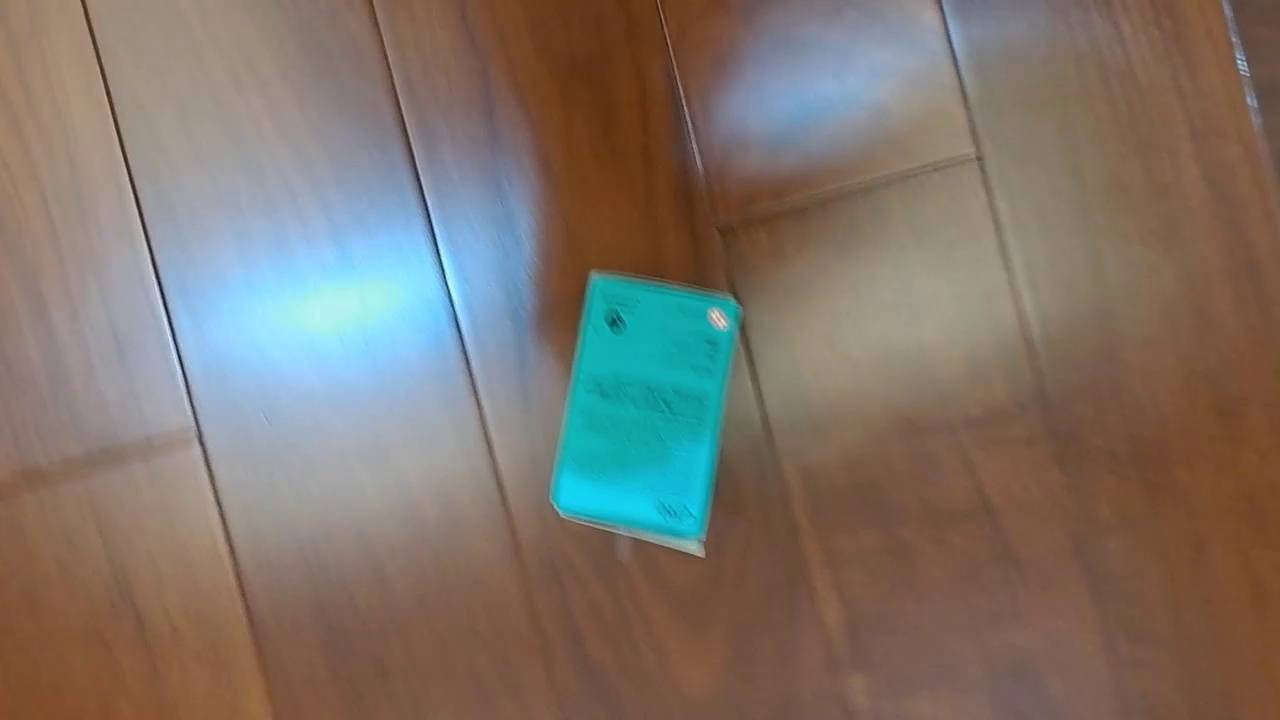webcam: (548, 269, 744, 560)
